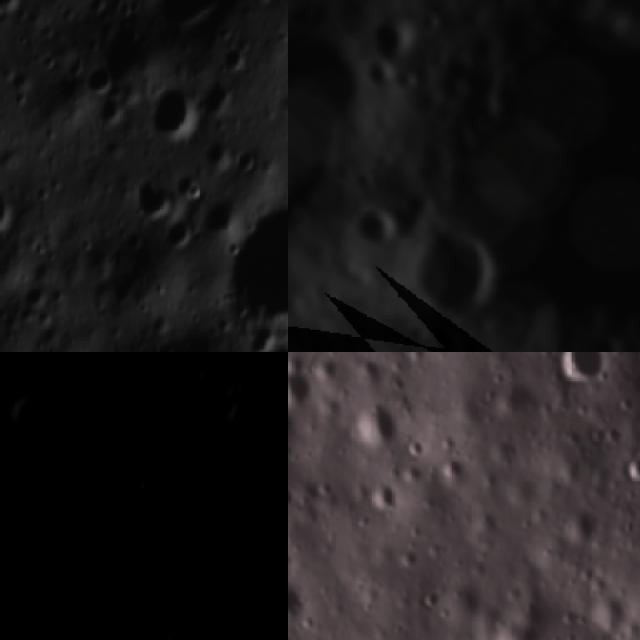crater: (193, 165, 288, 352), (395, 209, 531, 337), (136, 65, 203, 151), (117, 173, 179, 234), (137, 0, 239, 37), (365, 1, 425, 62), (351, 196, 410, 258), (0, 388, 60, 446), (550, 352, 617, 392), (217, 387, 266, 438), (570, 0, 640, 33), (128, 469, 176, 515), (1, 539, 49, 585), (353, 406, 402, 448), (389, 54, 432, 94), (288, 356, 318, 411), (354, 55, 396, 94), (138, 511, 174, 549), (58, 571, 91, 611), (153, 622, 224, 640), (34, 600, 68, 637), (288, 574, 311, 628), (164, 215, 196, 253), (0, 187, 23, 239), (403, 314, 437, 348), (252, 573, 285, 607), (132, 417, 160, 453), (422, 3, 454, 34), (94, 562, 120, 596), (20, 498, 44, 533), (620, 449, 640, 487), (229, 617, 262, 640), (12, 352, 48, 373), (249, 352, 283, 369), (293, 325, 316, 350), (288, 482, 301, 516), (170, 369, 187, 390), (281, 356, 288, 391), (353, 343, 379, 352)
